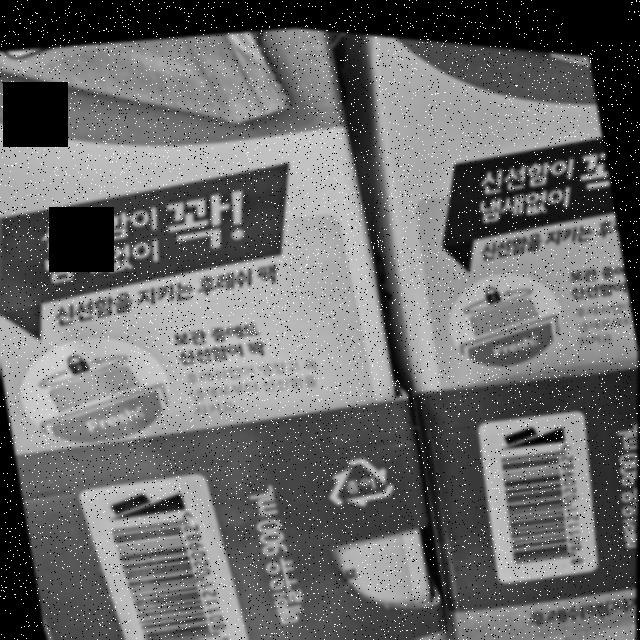Paper: (318, 435, 402, 509)
